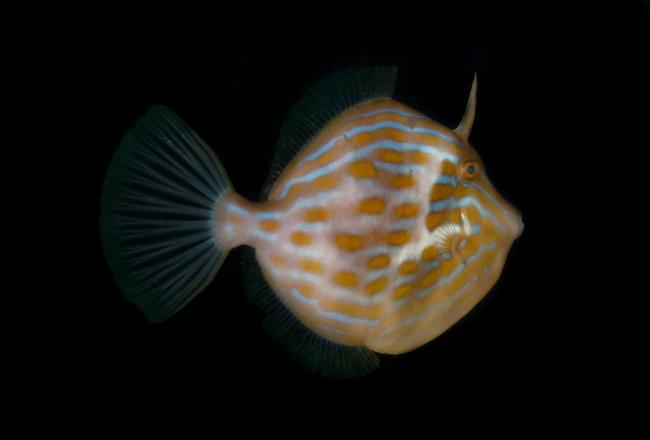fish: (102, 61, 526, 355)
